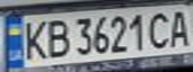1: (127, 10, 148, 52)
2: (109, 11, 130, 54)
3: (72, 15, 93, 56)
6: (90, 12, 112, 55)
A: (166, 7, 193, 48)
B: (42, 16, 72, 60)
C: (145, 9, 172, 50)
K: (18, 17, 51, 61)
